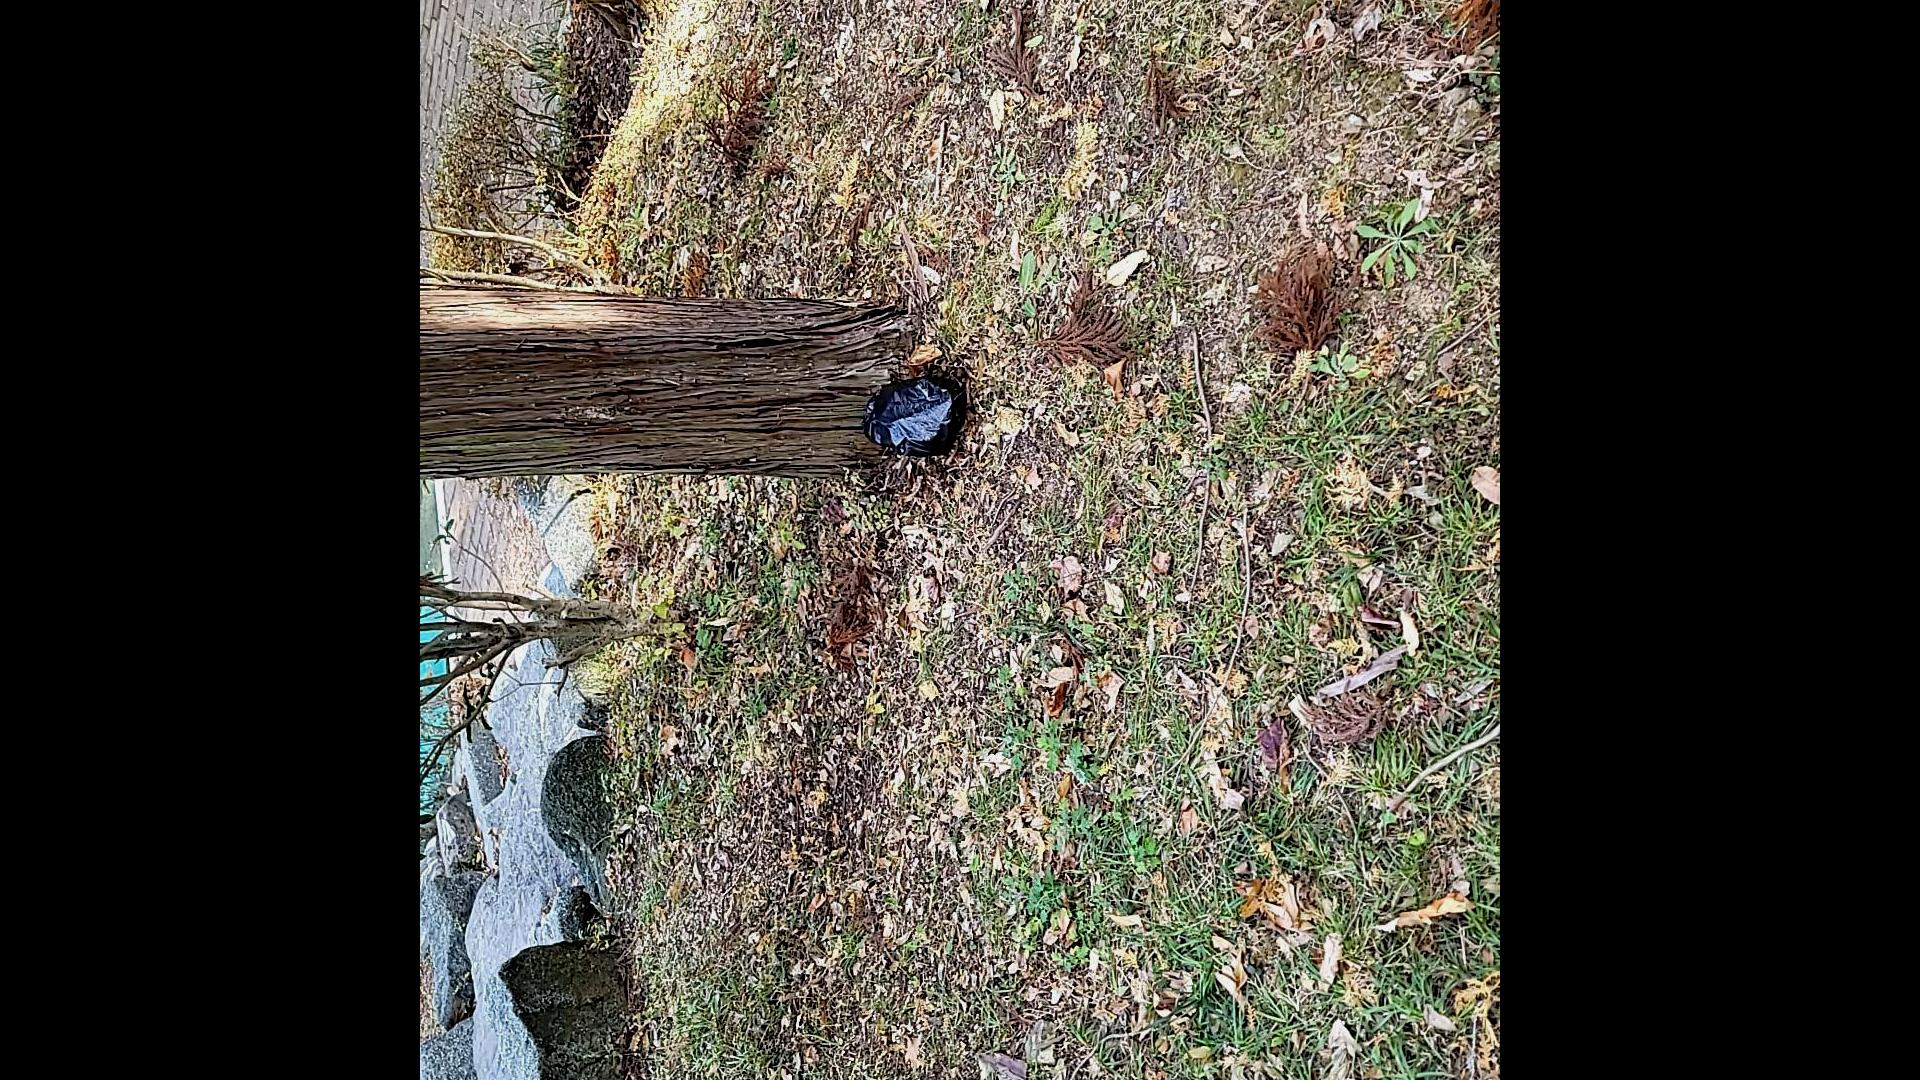black_bag: (860, 365, 971, 469)
